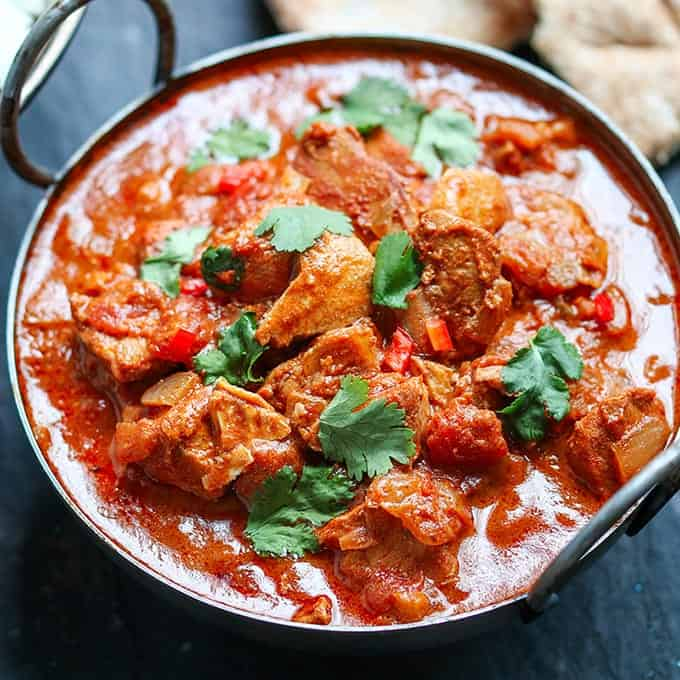chicken_curry: (110, 134, 639, 544)
